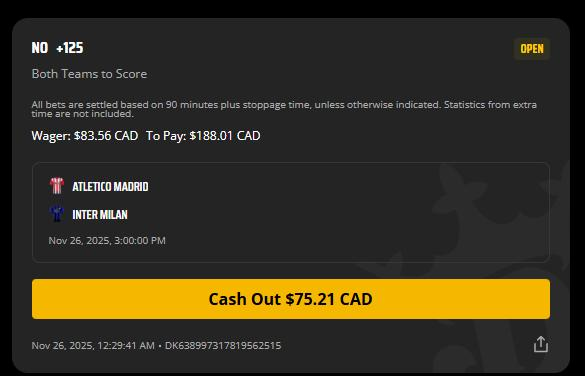game: (71, 179, 150, 222)
odds: (57, 39, 87, 56)
payout: (188, 128, 233, 143)
wager: (73, 129, 112, 142)
